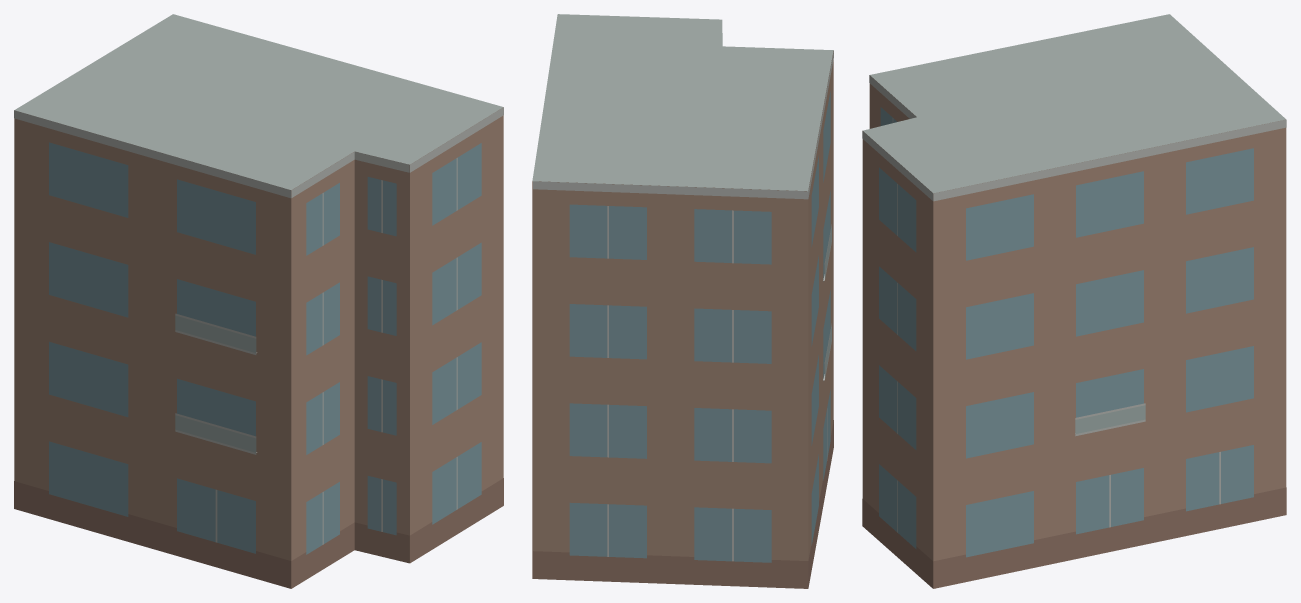
Rendered from survey-upis-32809486.glb.
The picture shows the model from 3 angles, left to right: view 1: azimuth 30°, elevation 25°; view 2: azimuth 150°, elevation 25°; view 3: azimuth 270°, elevation 25°; orthographic projection.
Visible parts, largest first — view 1: survey-upis-32809486.tmp; view 2: survey-upis-32809486.tmp; view 3: survey-upis-32809486.tmp.
Boxes of the visible parts, x1,y1,x2,y2 form: survey-upis-32809486.tmp: (14, 14, 503, 588); survey-upis-32809486.tmp: (532, 14, 833, 588); survey-upis-32809486.tmp: (862, 14, 1286, 588).
Size of the model in its own units: 11.58 by 11.9 by 11.56.
